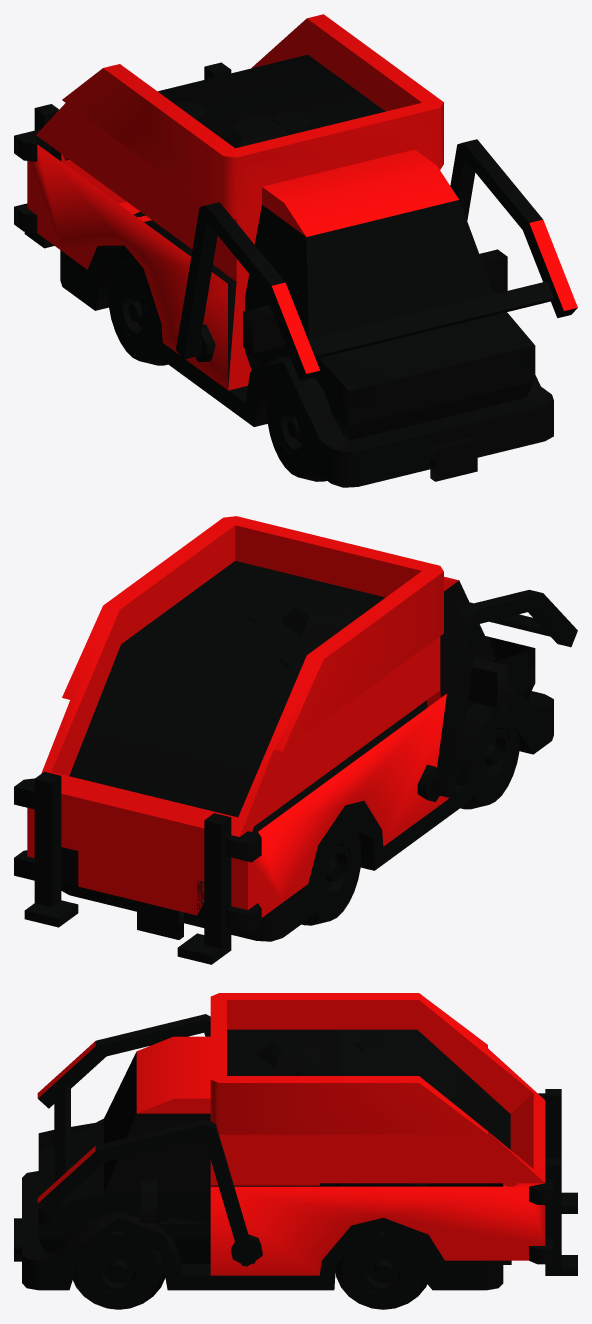
The model's file is garbage-truck.glb.
The picture shows the model from 3 angles, top to bottom: view 1: azimuth 30°, elevation 25°; view 2: azimuth 150°, elevation 25°; view 3: azimuth 270°, elevation 25°; orthographic projection. The views are drawn at different scales.
Visible parts, largest first — view 1: body, arm, wheel-back-right, wheel-front-right, trash; view 2: body, arm, wheel-back-right, trash, wheel-front-right; view 3: body, arm, wheel-front-left, wheel-back-left, trash.
Part boxes in pixels (x1,y1,x2,y2): body: (14, 14, 553, 487); arm: (176, 139, 577, 380); wheel-back-right: (108, 261, 167, 365); wheel-front-right: (266, 365, 356, 481); trash: (174, 102, 311, 148); body: (14, 516, 553, 964); arm: (417, 589, 577, 801); wheel-back-right: (301, 823, 360, 925); trash: (245, 598, 359, 668); wheel-front-right: (460, 708, 519, 809); body: (14, 993, 577, 1290); arm: (37, 1014, 262, 1266); wheel-front-left: (73, 1231, 165, 1309); wheel-back-left: (335, 1231, 427, 1309); trash: (256, 1035, 388, 1075).
Bounding box in the file's own units: 1.6 × 1.6 × 3.45.
1 material, 1 textured.
